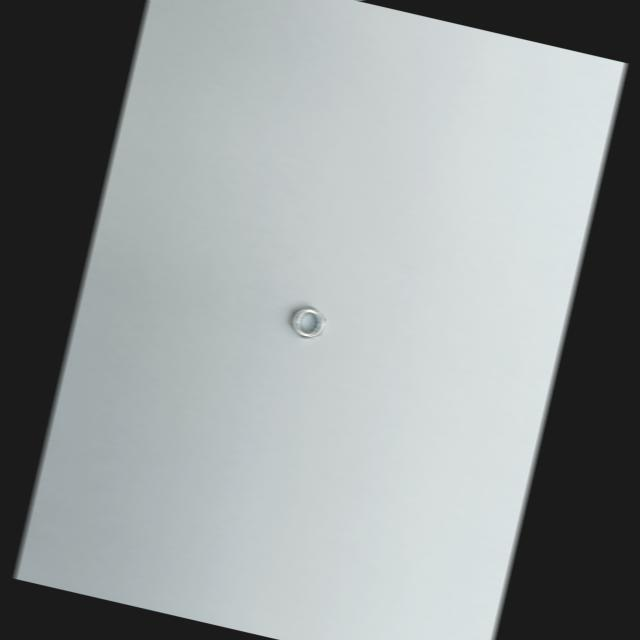nuts: (290, 306, 324, 338)
